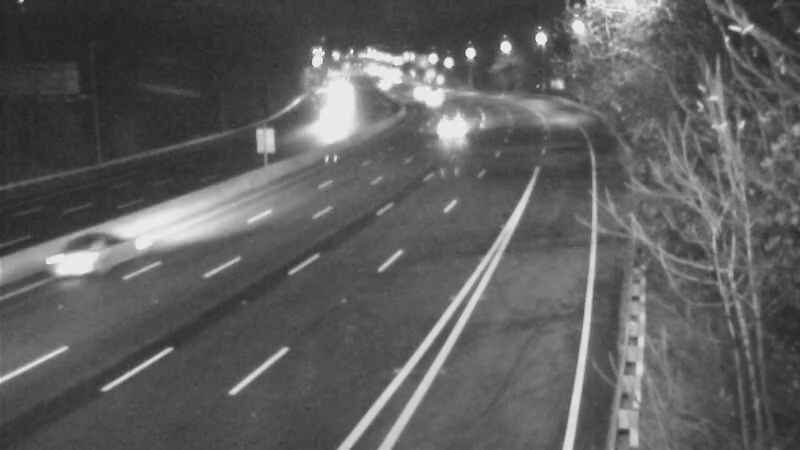vehicle: (33, 219, 113, 299), (360, 53, 410, 103), (391, 63, 441, 113), (408, 67, 458, 117), (423, 103, 473, 153), (298, 102, 348, 152)
